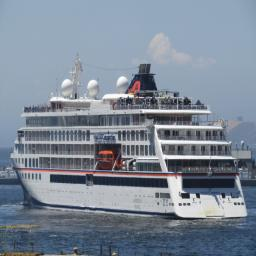cruises: (9, 44, 255, 220)
